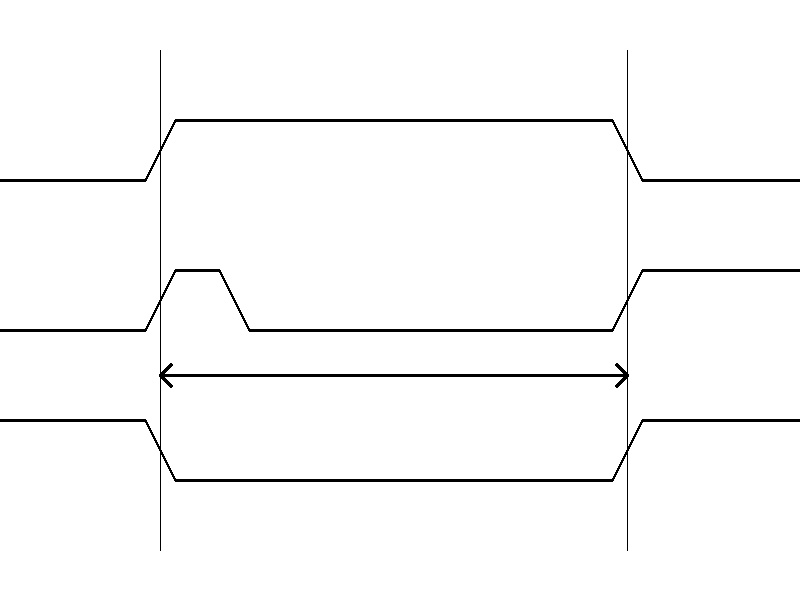double_arrow: (160, 360, 627, 390)
